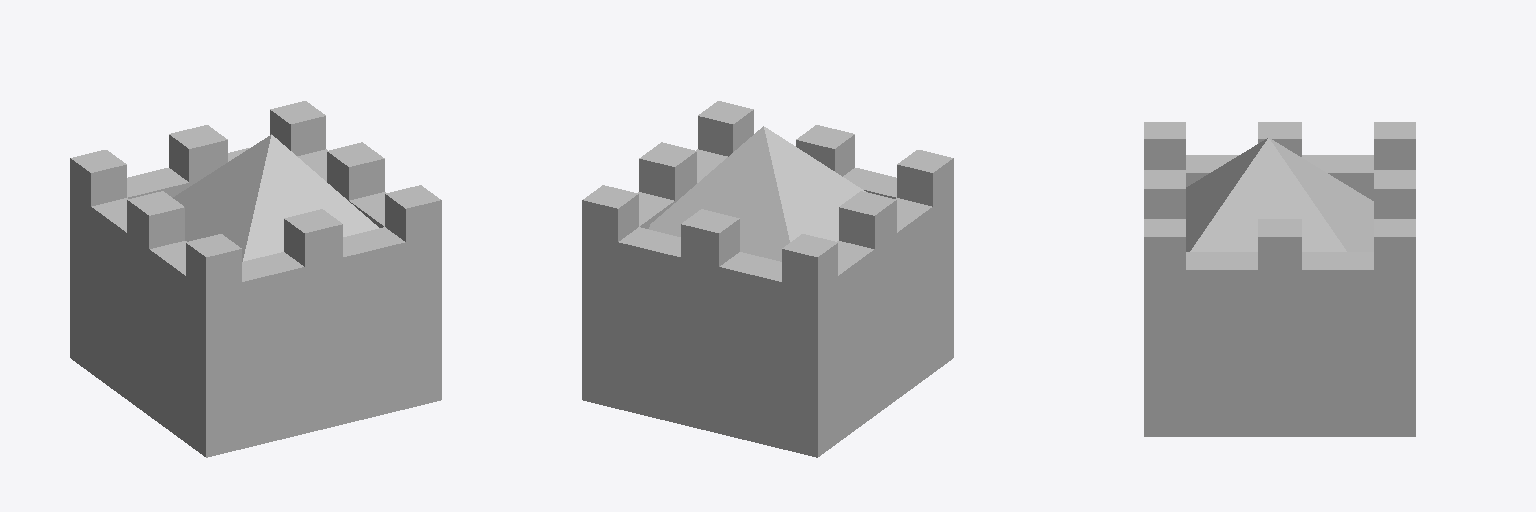
Rendered from tile_051.obj.
3 renders of one model, left to right at view 1: azimuth 30°, elevation 25°; view 2: azimuth 150°, elevation 25°; view 3: azimuth 270°, elevation 25°, orthographic.
Parts seen in each view (by area): view 1: tile_051, Group; view 2: tile_051, Group; view 3: tile_051, Group.
Boxes of the visible parts, x1=… form: tile_051: x1=70, y1=101, x2=441, y2=457; Group: x1=173, y1=134, x2=378, y2=261; tile_051: x1=582, y1=101, x2=953, y2=457; Group: x1=649, y1=126, x2=865, y2=261; tile_051: x1=1144, y1=122, x2=1415, y2=436; Group: x1=1186, y1=138, x2=1373, y2=251.
Bounding box in the file's own units: 0.5901 × 0.5914 × 0.5901.